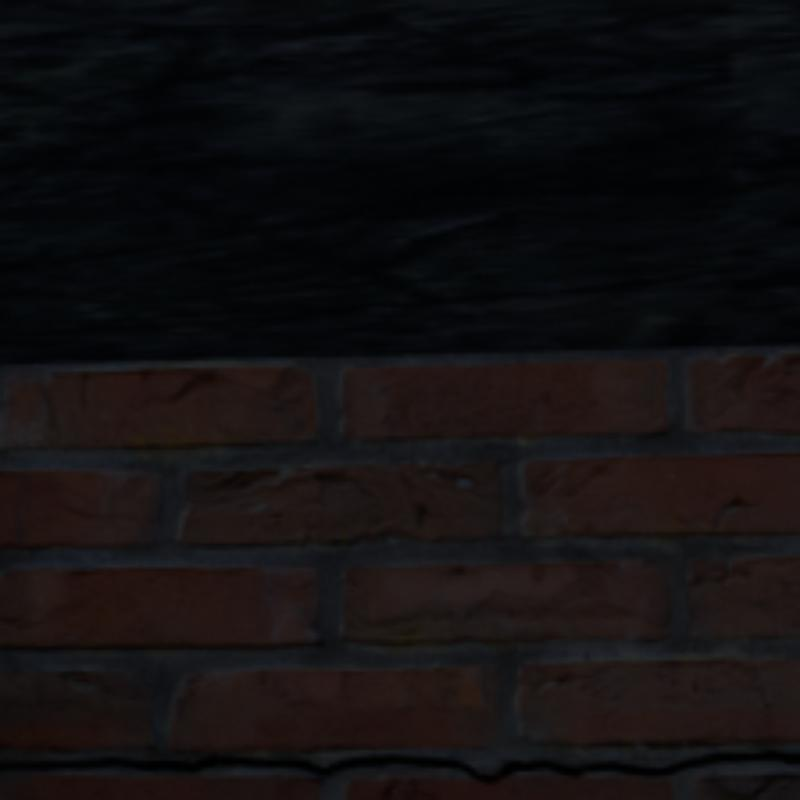pothole: (0, 754, 796, 782)
